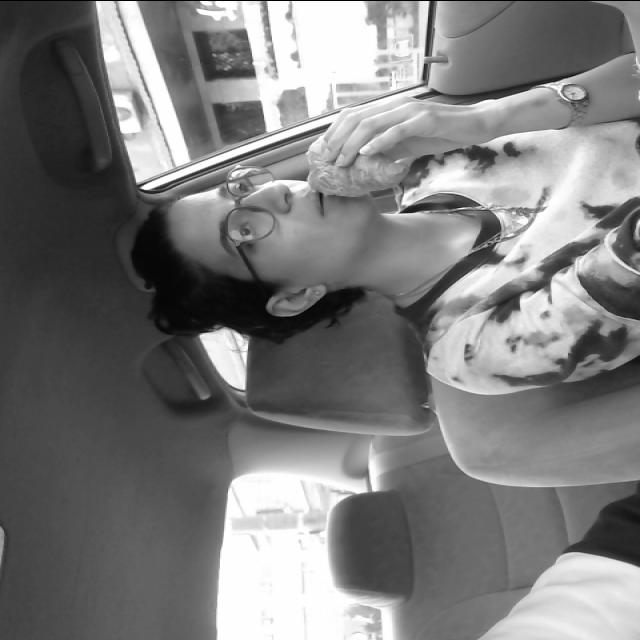eating: (297, 132, 419, 200)
